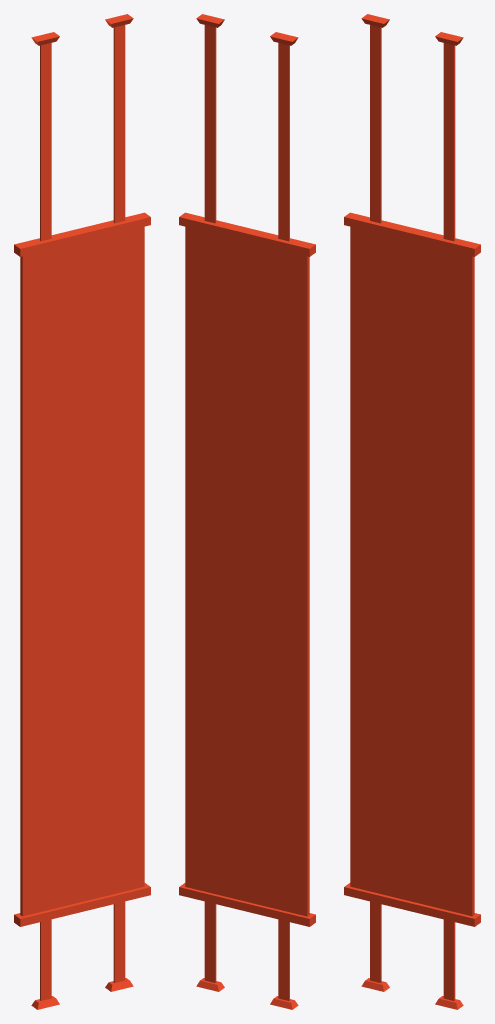
The model's file is SM_Billboard_Tall_City.fbx.
3 renders of one model, left to right at view 1: azimuth 30°, elevation 25°; view 2: azimuth 150°, elevation 25°; view 3: azimuth 330°, elevation 25°, orthographic.
Parts seen in each view (by area): view 1: SM_Billboard_Tall_City; view 2: SM_Billboard_Tall_City; view 3: SM_Billboard_Tall_City.
Boxes of the visible parts, x1,y1,x2,y2 form: SM_Billboard_Tall_City: (14, 14, 150, 1009); SM_Billboard_Tall_City: (179, 14, 315, 1009); SM_Billboard_Tall_City: (344, 14, 480, 1009).
Bounding box in the file's own units: 0.643 × 4.55 × 0.0522.
